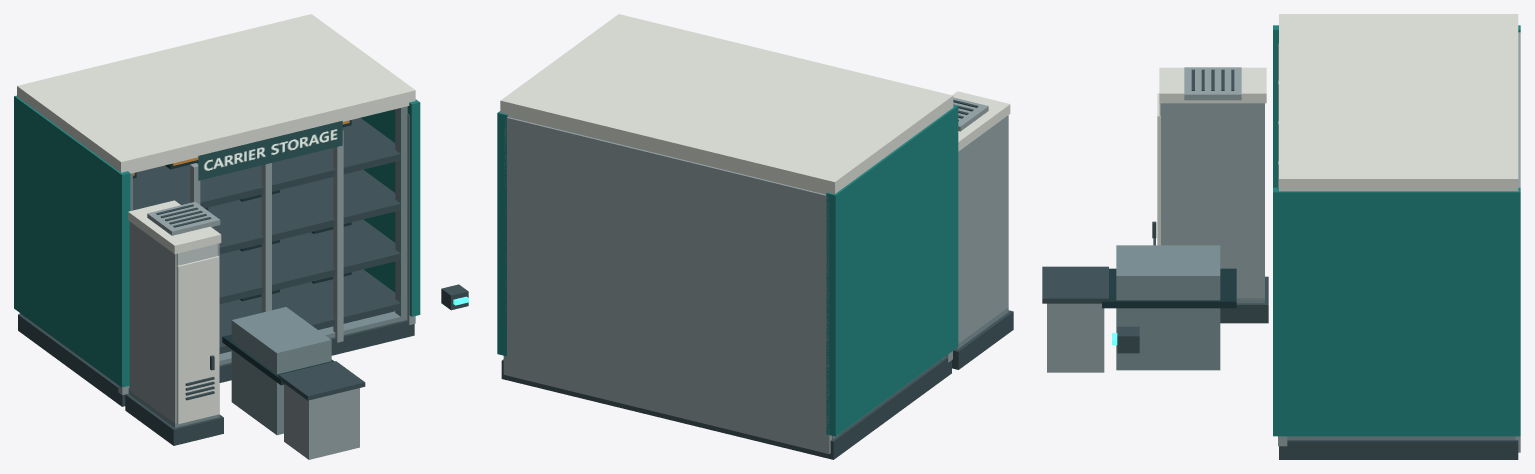
File: stocker.glb
The picture shows the model from 3 angles, left to right: view 1: azimuth 30°, elevation 25°; view 2: azimuth 150°, elevation 25°; view 3: azimuth 270°, elevation 25°; orthographic projection. The views are drawn at different scales.
Parts seen in each view (by area): view 1: process_modules, outer_panels; view 2: process_modules, outer_panels; view 3: process_modules, outer_panels.
Part boxes in pixels (x1=…): process_modules: x1=14, y1=14, x2=468, y2=459; outer_panels: x1=125, y1=200, x2=223, y2=445; process_modules: x1=497, y1=14, x2=958, y2=459; outer_panels: x1=952, y1=91, x2=1013, y2=369; process_modules: x1=1042, y1=14, x2=1520, y2=459; outer_panels: x1=1152, y1=67, x2=1268, y2=323.
Bounding box in the file's own units: 4.26 × 3.35 × 5.16.
11 materials, 1 textured.
